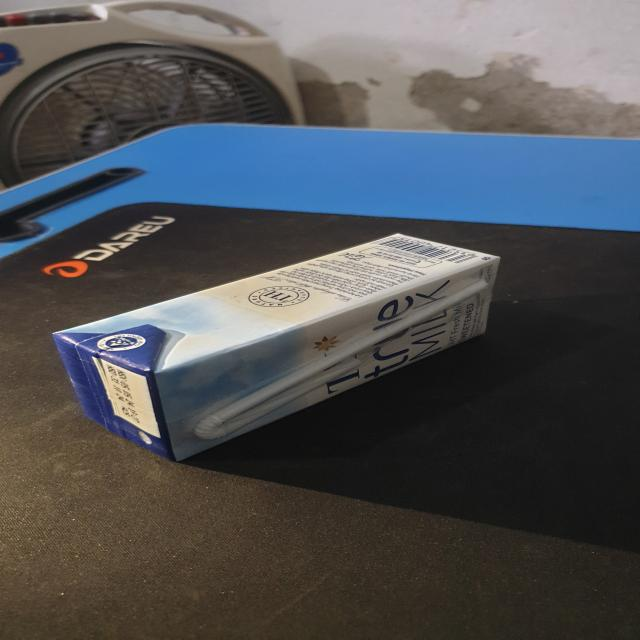TH: (55, 236, 499, 464)
